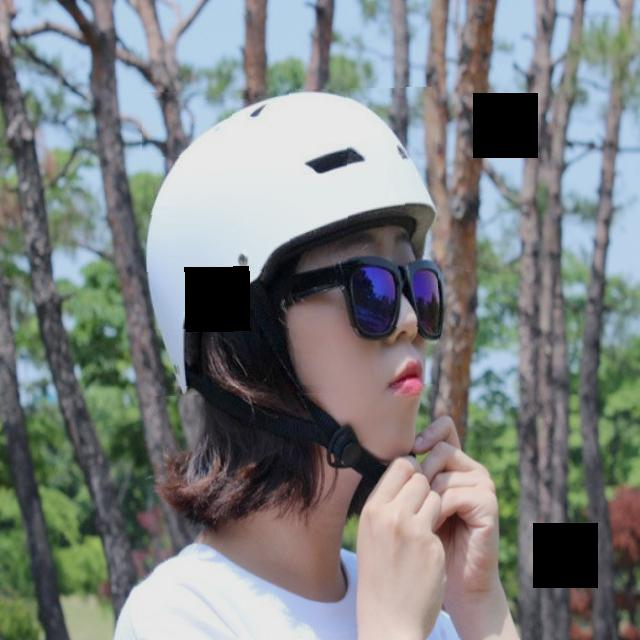helmet: (143, 89, 438, 395)
